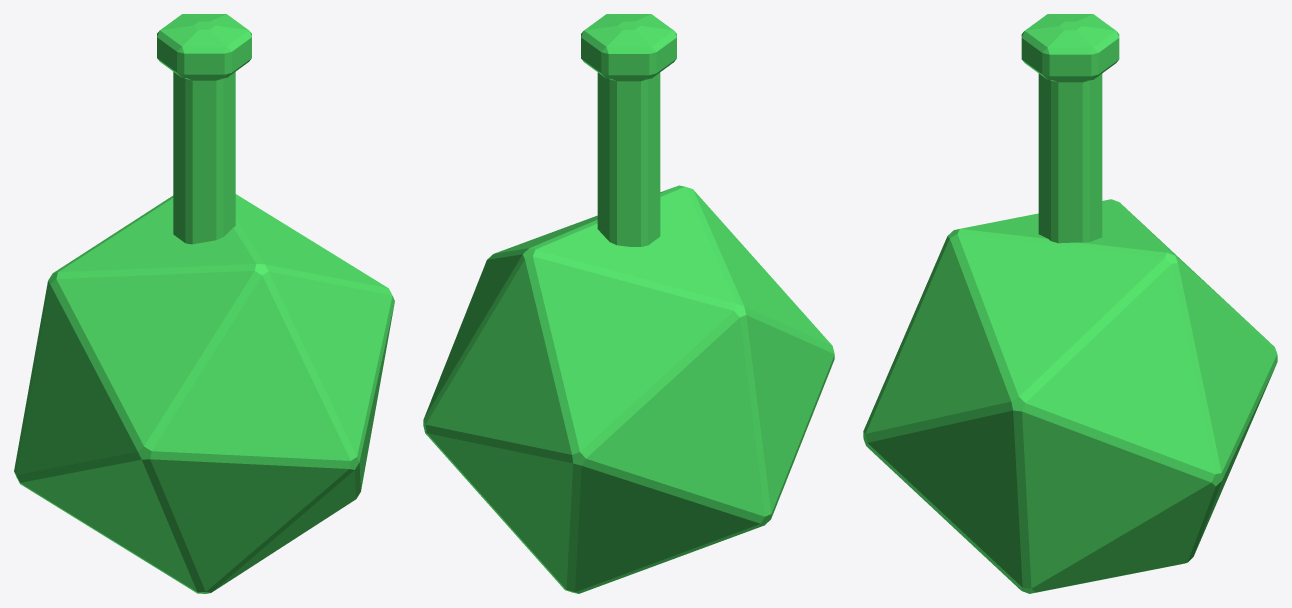
File: Potion2.fbx
The picture shows the model from 3 angles, left to right: view 1: azimuth 30°, elevation 25°; view 2: azimuth 150°, elevation 25°; view 3: azimuth 270°, elevation 25°; orthographic projection. The views are drawn at different scales.
Visible parts, largest first — view 1: Potion2; view 2: Potion2; view 3: Potion2.
Part boxes in pixels (box(x1,y1,x2,y2)): Potion2: box(14, 14, 394, 593); Potion2: box(423, 14, 834, 593); Potion2: box(863, 14, 1277, 593).
Bounding box in the file's own units: 177 × 269 × 188.
